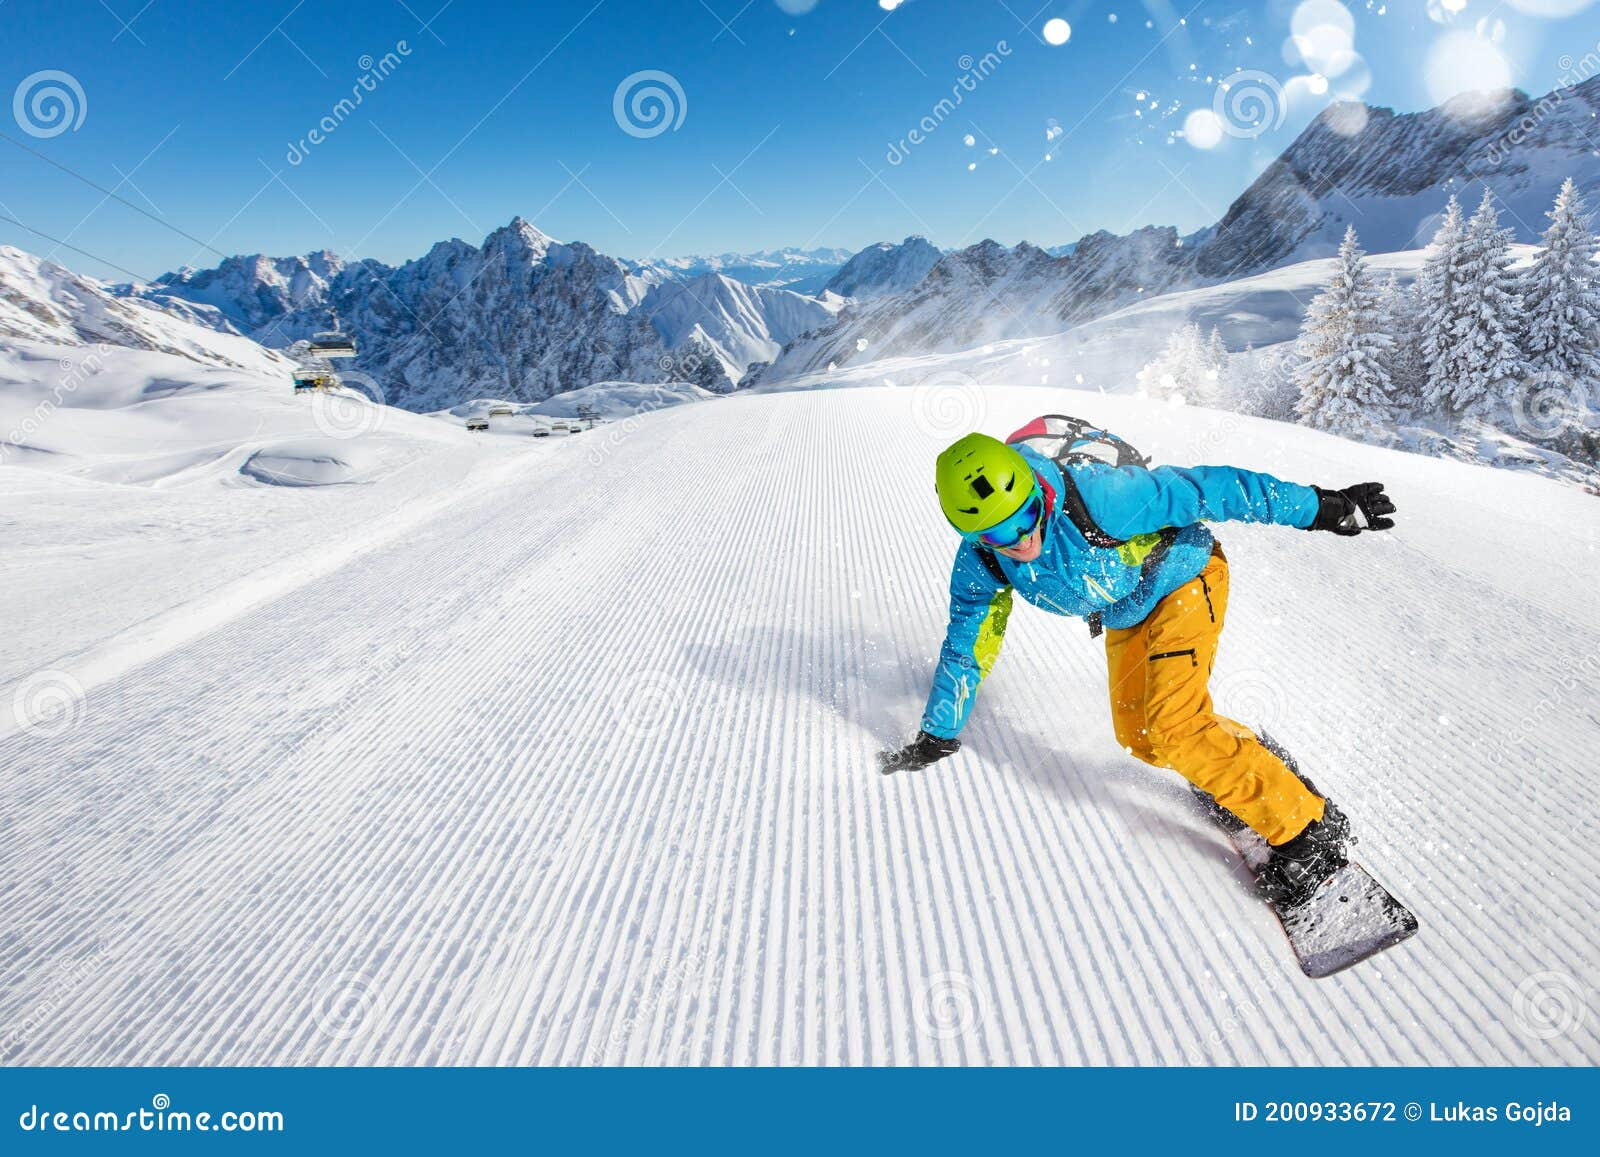snowboarder: (810, 343, 1466, 998)
